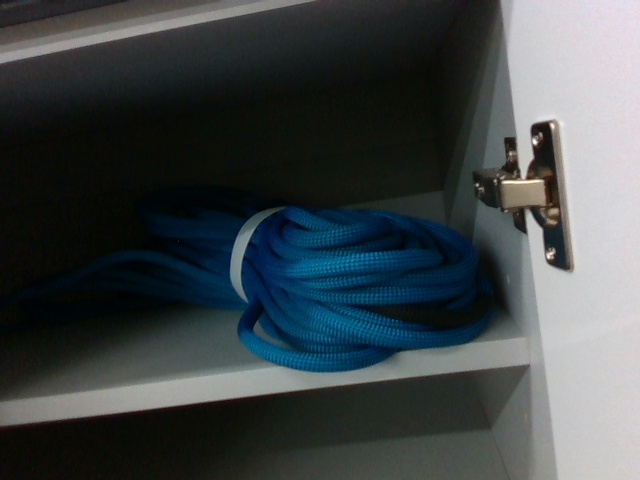rope: (226, 209, 502, 365)
